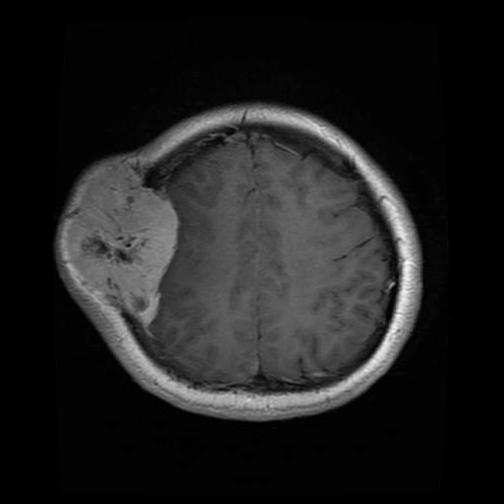Tumour-Meningioma: (45, 158, 192, 351)
